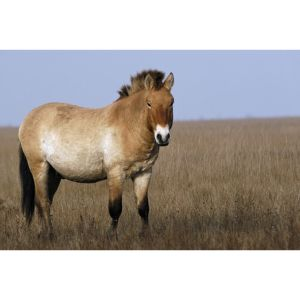horse: (16, 67, 175, 226)
